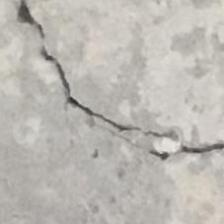Crack: (11, 5, 224, 161)
